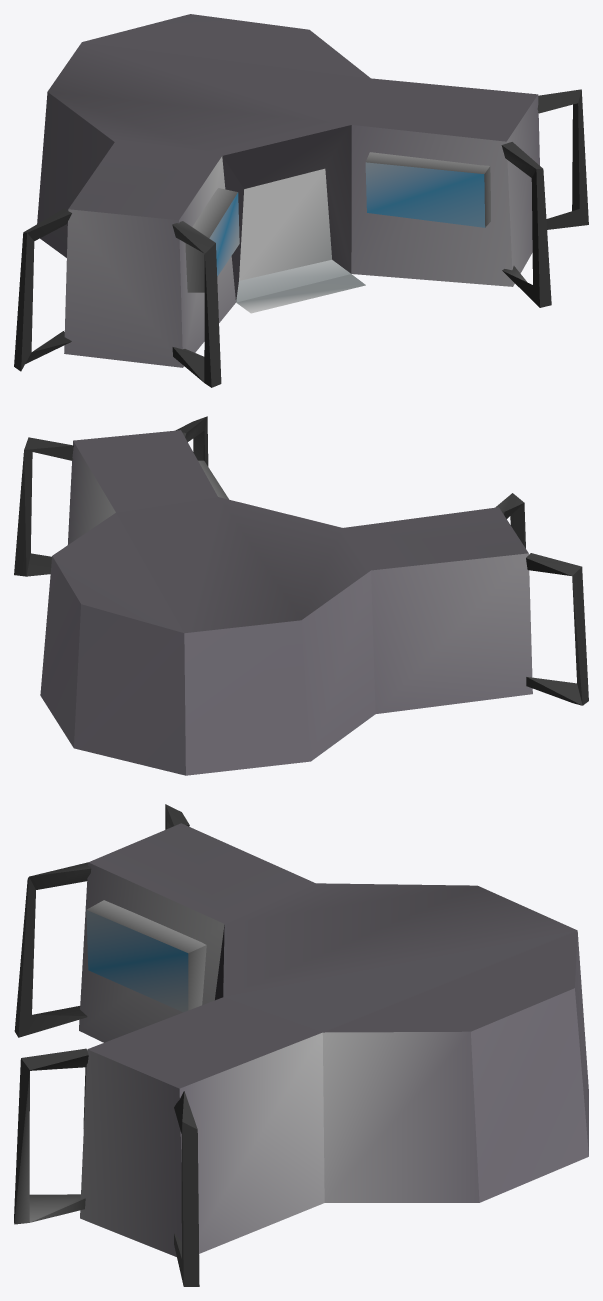
The model's file is Edificio1.fbx.
3 views of the same model, one above another, from view 1: azimuth 30°, elevation 25°; view 2: azimuth 150°, elevation 25°; view 3: azimuth 270°, elevation 25° (orthographic). The views are drawn at different scales.
Visible parts, largest first — view 1: edificacao1; view 2: edificacao1; view 3: edificacao1.
Boxes of the visible parts, x1,y1,x2,y2 form: edificacao1: (14,14,588,387); edificacao1: (14,416,588,775); edificacao1: (14,804,588,1286).
Bounding box in the file's own units: 1477 × 354 × 1096.
